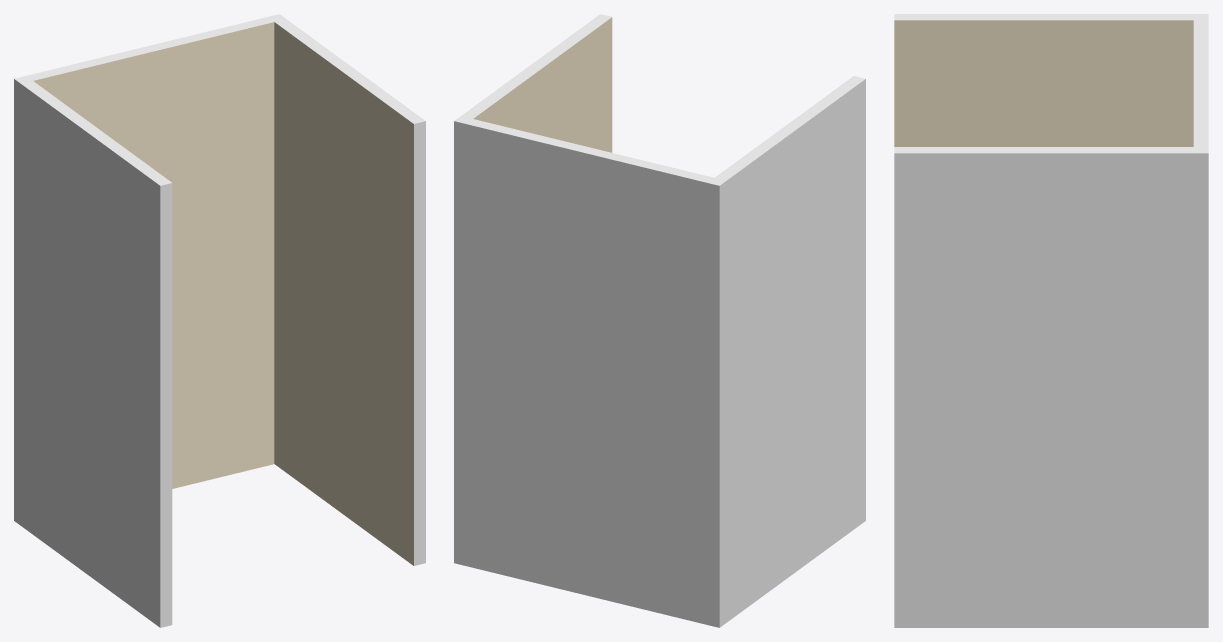
File: Prop_WallCShape_01.fbx
The picture shows the model from 3 angles, left to right: view 1: azimuth 30°, elevation 25°; view 2: azimuth 150°, elevation 25°; view 3: azimuth 270°, elevation 25°; orthographic projection. The views are drawn at different scales.
Parts seen in each view (by area): view 1: Prop_WallCShape_01; view 2: Prop_WallCShape_01; view 3: Prop_WallCShape_01.
Part boxes in pixels (left/top/right/bottom): Prop_WallCShape_01: left=14, top=14, right=425, bottom=627; Prop_WallCShape_01: left=454, top=14, right=865, bottom=627; Prop_WallCShape_01: left=894, top=14, right=1208, bottom=627.
Size of the model in its own units: 220 by 350 by 210.
